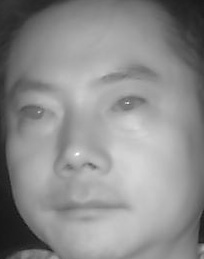eye: (106, 91, 149, 117), (18, 100, 55, 124)
mouth: (52, 182, 132, 226)
